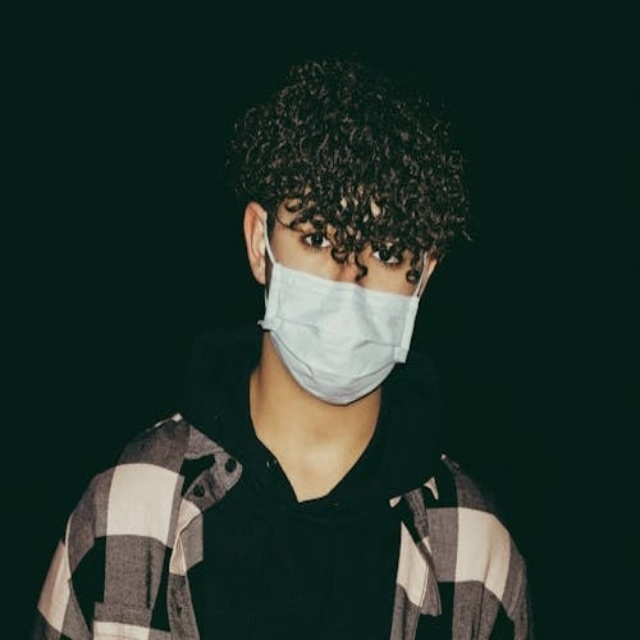Mascara: (258, 209, 426, 403)
Sin_gafas: (298, 219, 406, 277)
